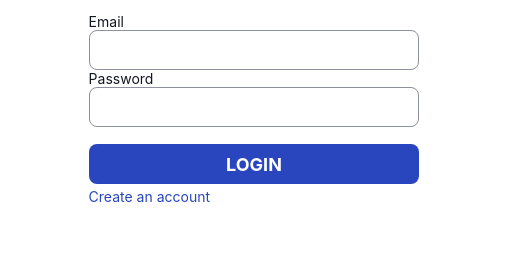
Testing LoginForm... › When user don't type anything
This screenshot has width=509, height=253.
Click the button. click: (254, 164)
box: [89,144,419,184]
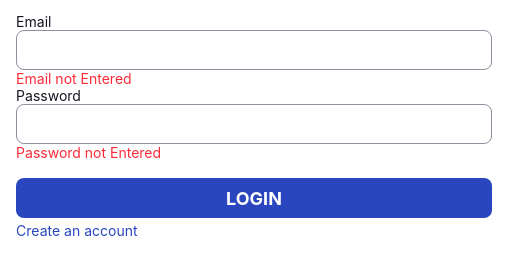
Result: the text "Email not Entered" is shown at [16,70,132,87]
Result: the text "Password not Entered" is shown at [16,144,161,161]
